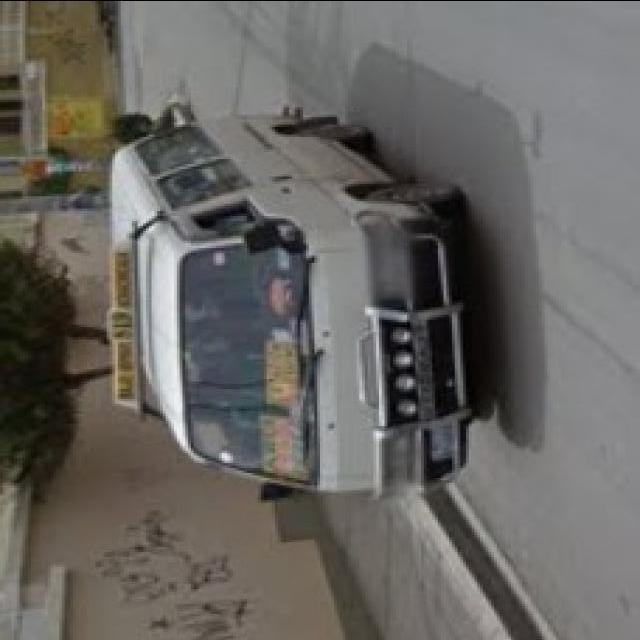bus: (118, 118, 477, 497)
